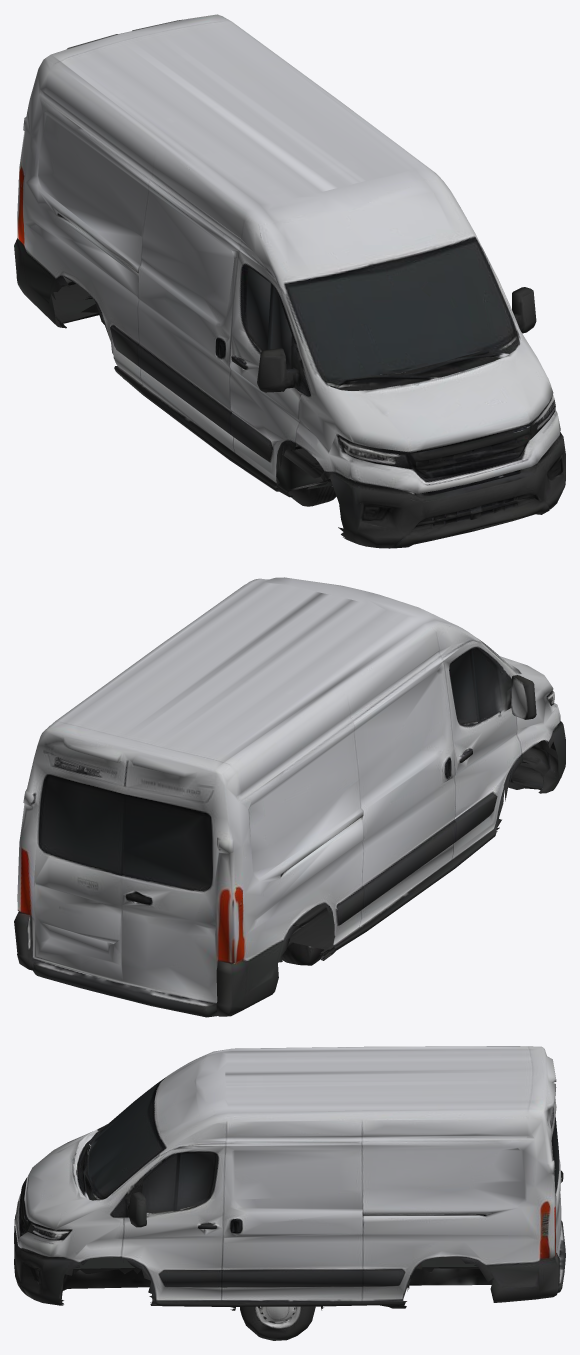
File: civ-van.glb
3 renders of one model, top to bottom at view 1: azimuth 30°, elevation 25°; view 2: azimuth 150°, elevation 25°; view 3: azimuth 270°, elevation 25°, orthographic. The views are drawn at different scales.
Parts seen in each view (by area): view 1: body, wheel; view 2: body, wheel; view 3: body, wheel.
Part boxes in pixels (bbox=[...]): body: bbox=[14, 14, 565, 548]; wheel: bbox=[288, 482, 336, 506]; body: bbox=[14, 577, 565, 1017]; wheel: bbox=[281, 943, 323, 965]; body: bbox=[14, 1046, 565, 1308]; wheel: bbox=[230, 1306, 323, 1340].
Size of what is drawn, in the model's own units: 2.31 by 2.73 by 5.25.
Materials: 1 (1 with a texture image).
